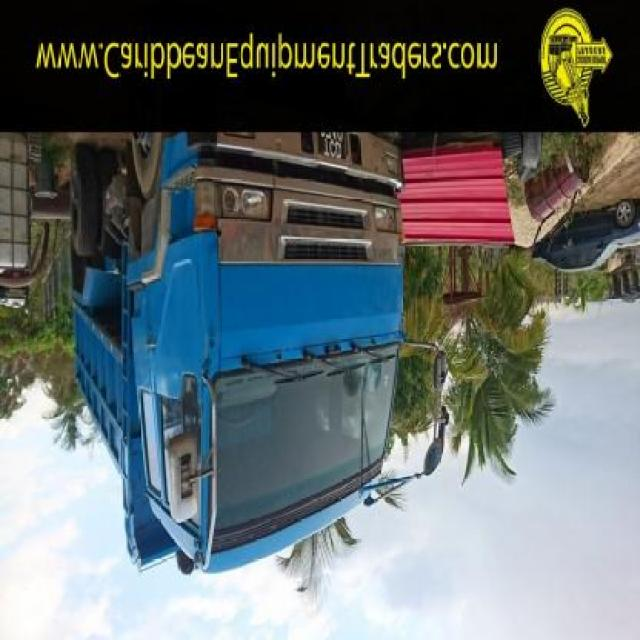truck: (66, 135, 405, 579)
